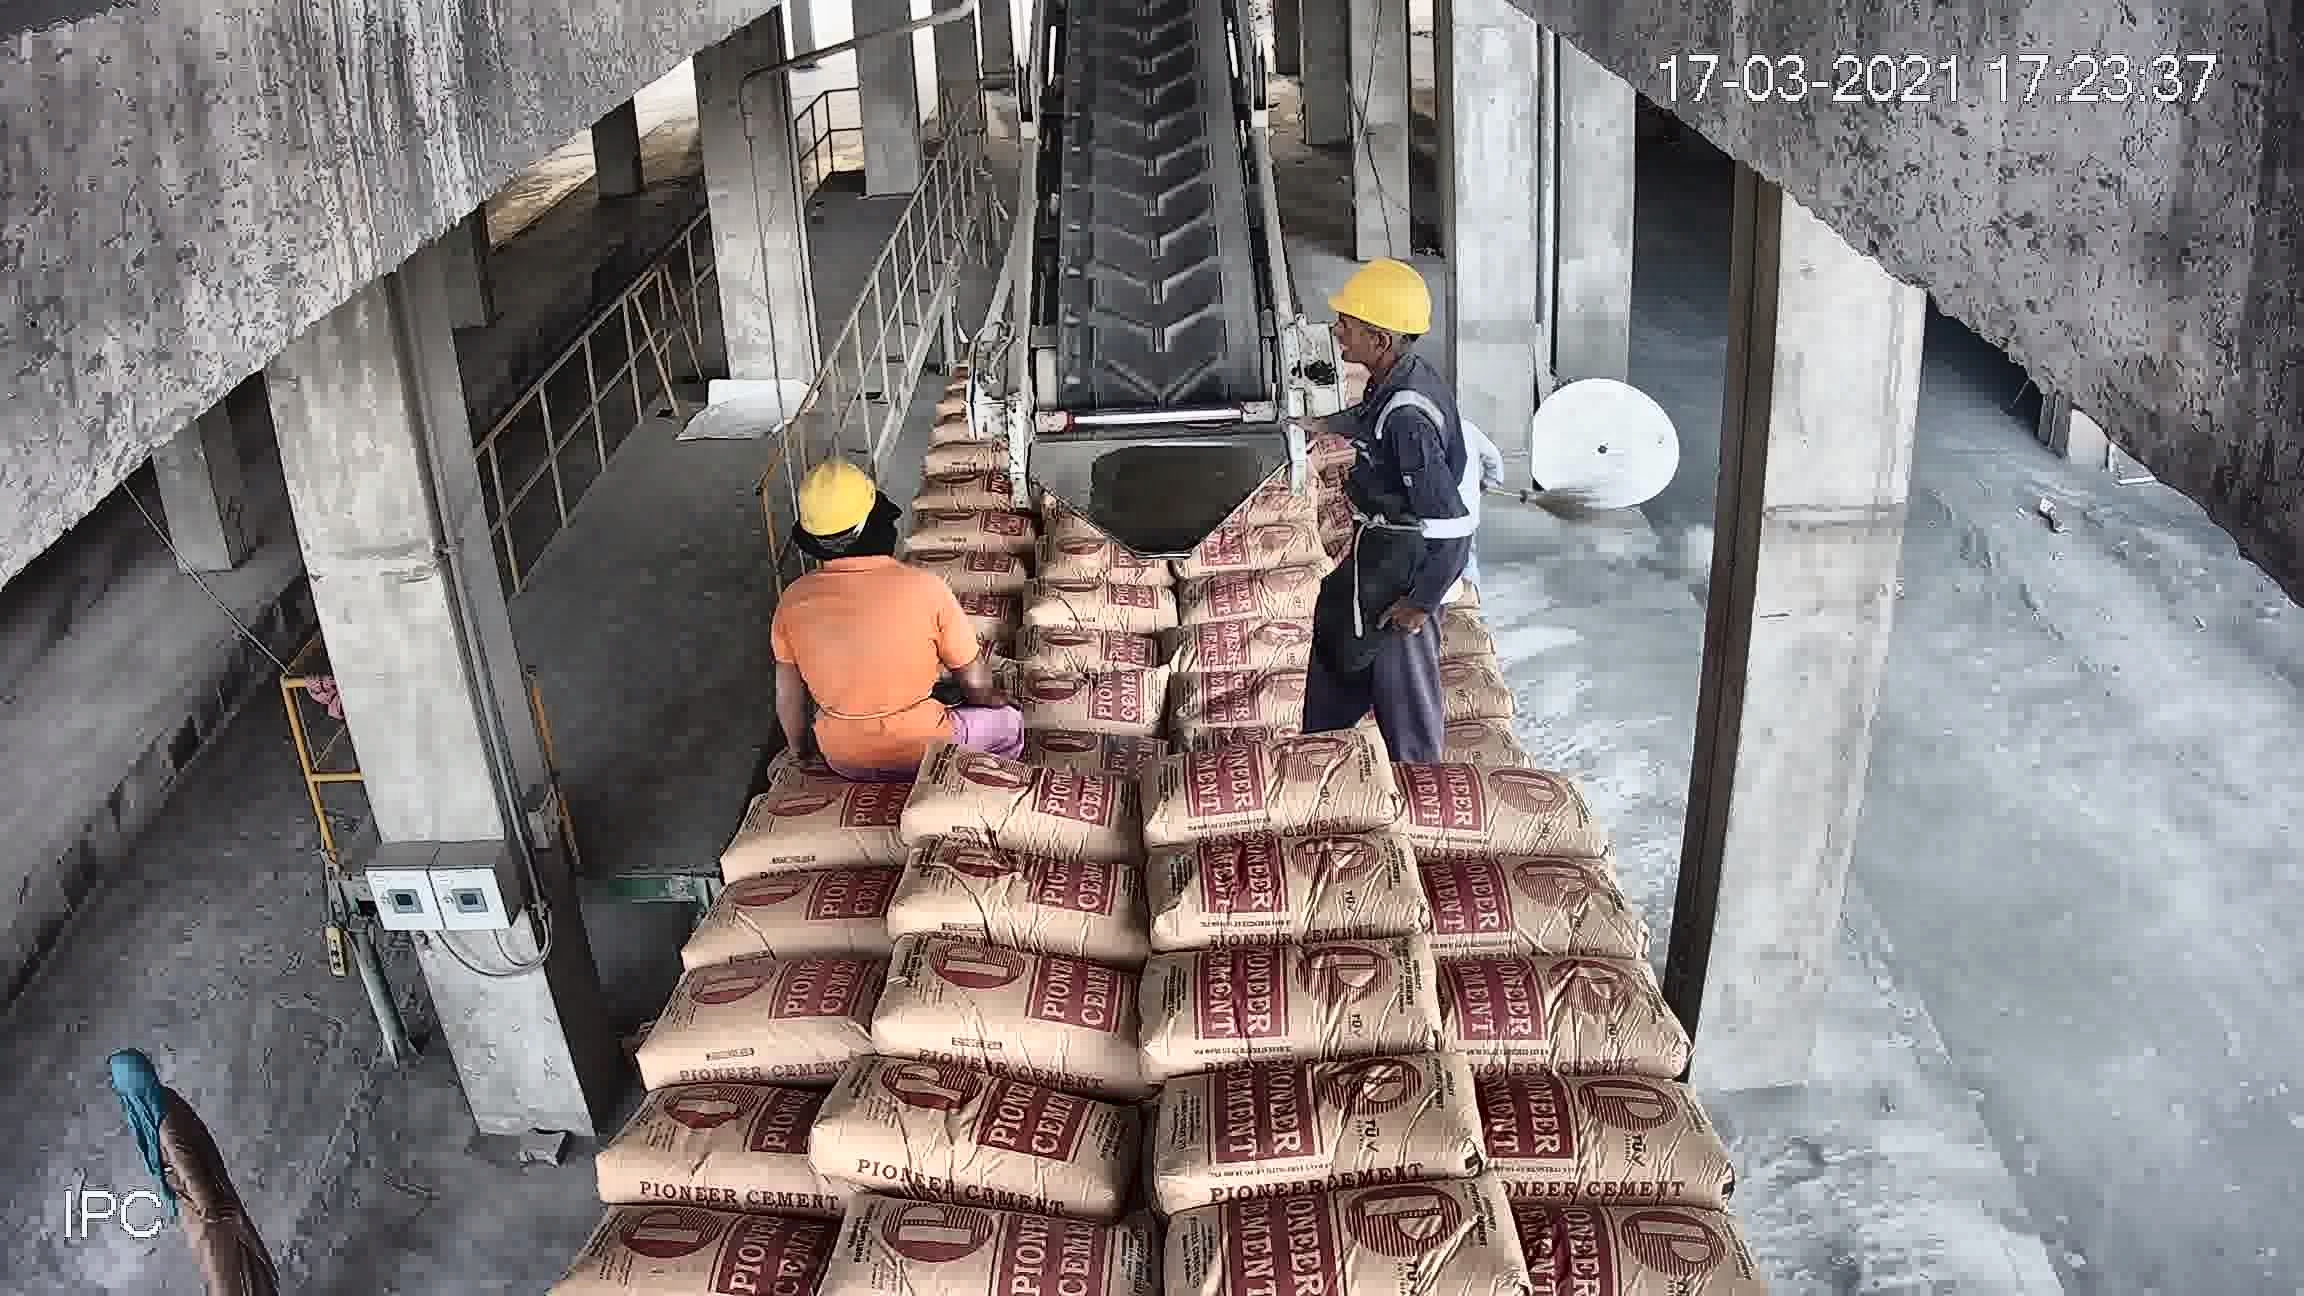bag: (1044, 0, 1261, 364), (1098, 313, 1215, 443), (1090, 40, 1192, 135)
bag_h: (1116, 1036, 1480, 1180), (1131, 1165, 1518, 1296), (1112, 930, 1453, 1071), (820, 1065, 1127, 1193), (873, 938, 1143, 1071), (1476, 1048, 1730, 1188), (1438, 940, 1693, 1078), (589, 1067, 824, 1203), (1152, 718, 1400, 847), (639, 965, 896, 1084), (1397, 840, 1639, 954), (1165, 824, 1412, 930), (570, 1184, 840, 1279), (673, 850, 907, 959), (891, 847, 1146, 946), (1176, 578, 1400, 690), (843, 1211, 1158, 1290), (1486, 1203, 1761, 1293), (1155, 658, 1393, 748), (756, 695, 945, 801), (1400, 756, 1590, 858), (904, 764, 1135, 845), (729, 774, 902, 880), (915, 693, 1150, 764), (1396, 671, 1590, 756), (981, 601, 1161, 680), (1381, 612, 1541, 699), (975, 544, 1161, 614), (777, 646, 980, 707), (1141, 527, 1343, 589), (782, 589, 961, 657), (798, 527, 972, 593), (1355, 551, 1518, 620), (991, 503, 1188, 557), (1312, 440, 1454, 498), (1343, 516, 1492, 567), (1298, 479, 1461, 525), (1304, 385, 1434, 432), (1304, 419, 1438, 460), (1052, 475, 1198, 513), (1298, 372, 1427, 402), (1294, 324, 1389, 362), (1052, 427, 1158, 460), (1054, 460, 1184, 487), (1313, 348, 1408, 381)
